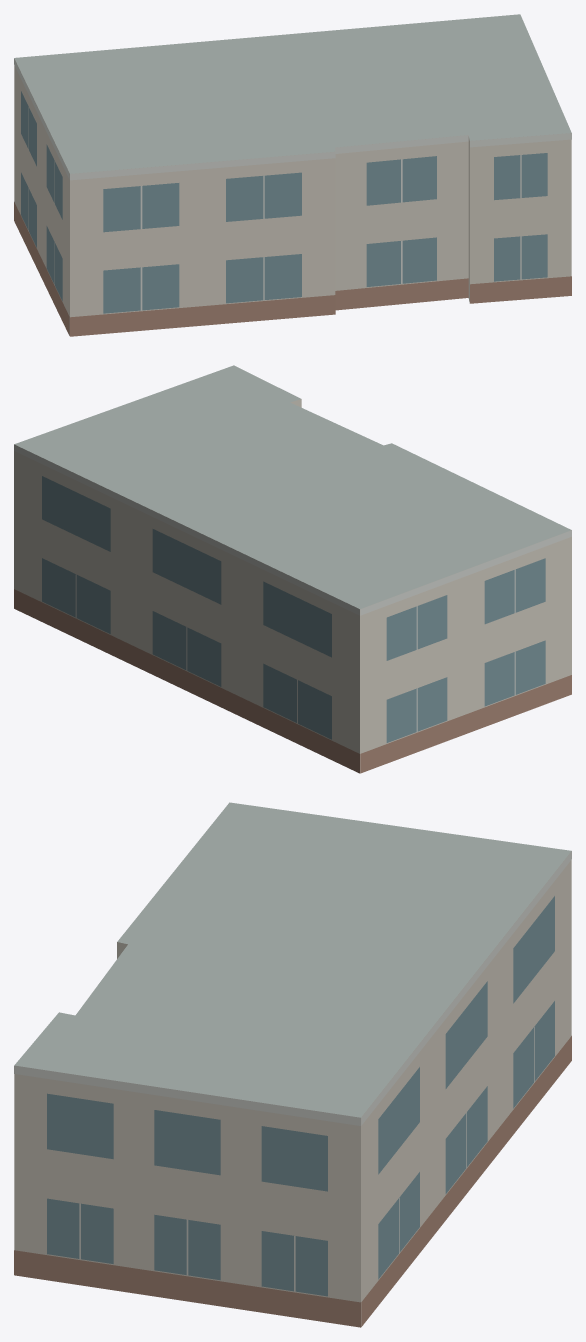
File: survey-upis-32665783.glb
3 views of the same model, one above another, from view 1: azimuth 30°, elevation 25°; view 2: azimuth 150°, elevation 25°; view 3: azimuth 270°, elevation 25° (orthographic). The views are drawn at different scales.
Parts seen in each view (by area): view 1: survey-upis-32665783.tmp; view 2: survey-upis-32665783.tmp; view 3: survey-upis-32665783.tmp.
Part boxes in pixels (bbox=[...]): survey-upis-32665783.tmp: bbox=[14, 14, 571, 336]; survey-upis-32665783.tmp: bbox=[14, 365, 571, 773]; survey-upis-32665783.tmp: bbox=[14, 802, 571, 1327].
Size of the model in its own units: 19.67 by 6.1 by 14.7.
